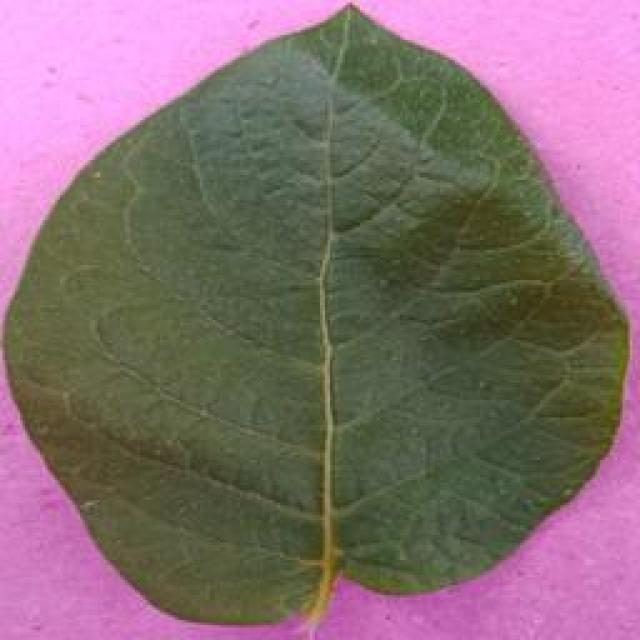Potato_Healthy: (16, 9, 626, 624)
